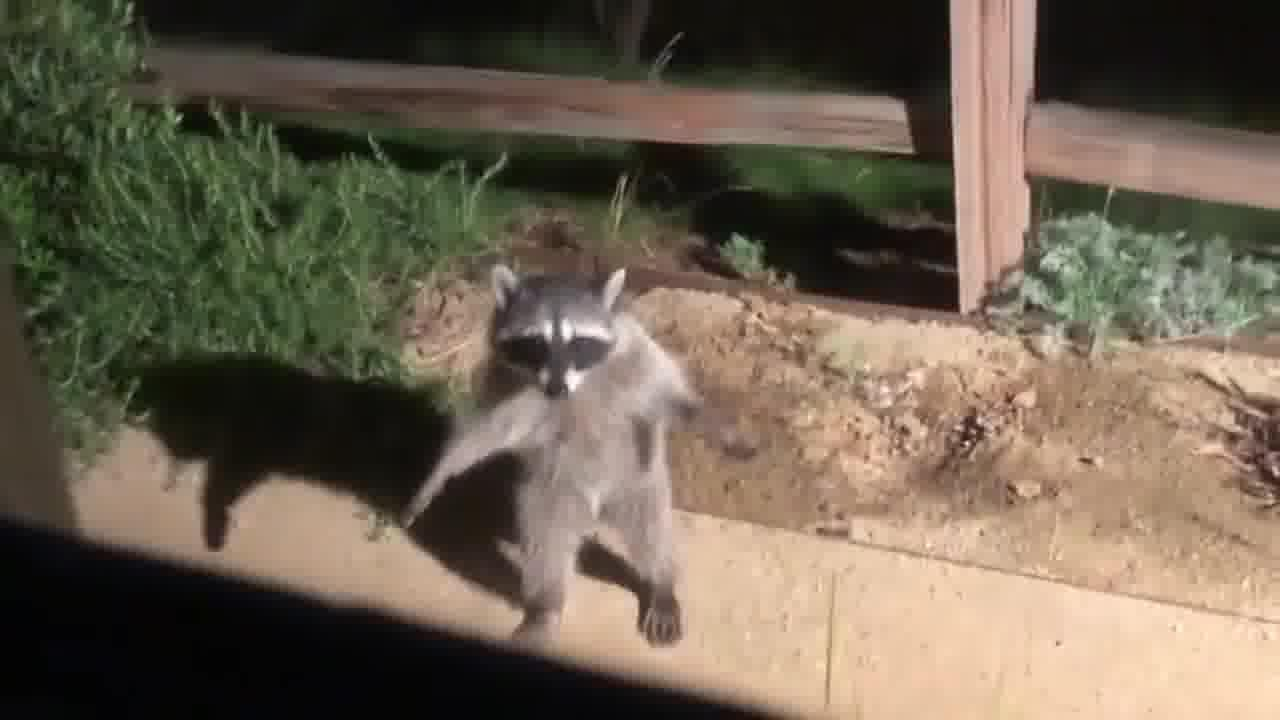raccoon: (403, 263, 757, 655)
